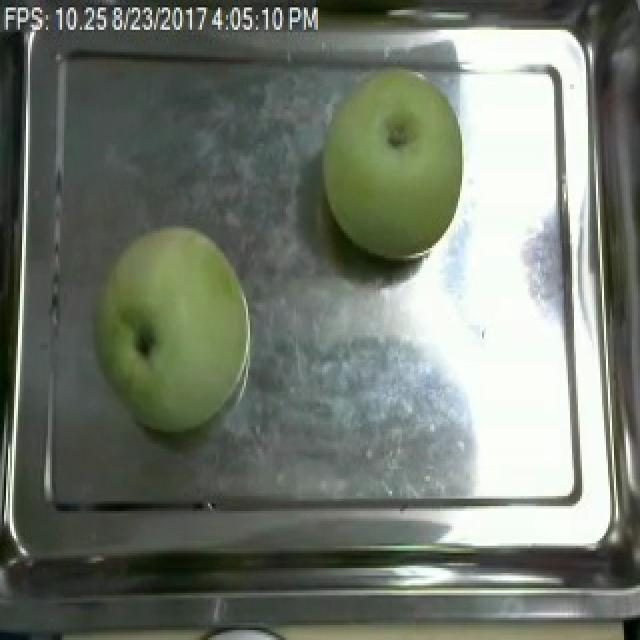50-_ripeness: (311, 70, 475, 285), (97, 226, 266, 426)
